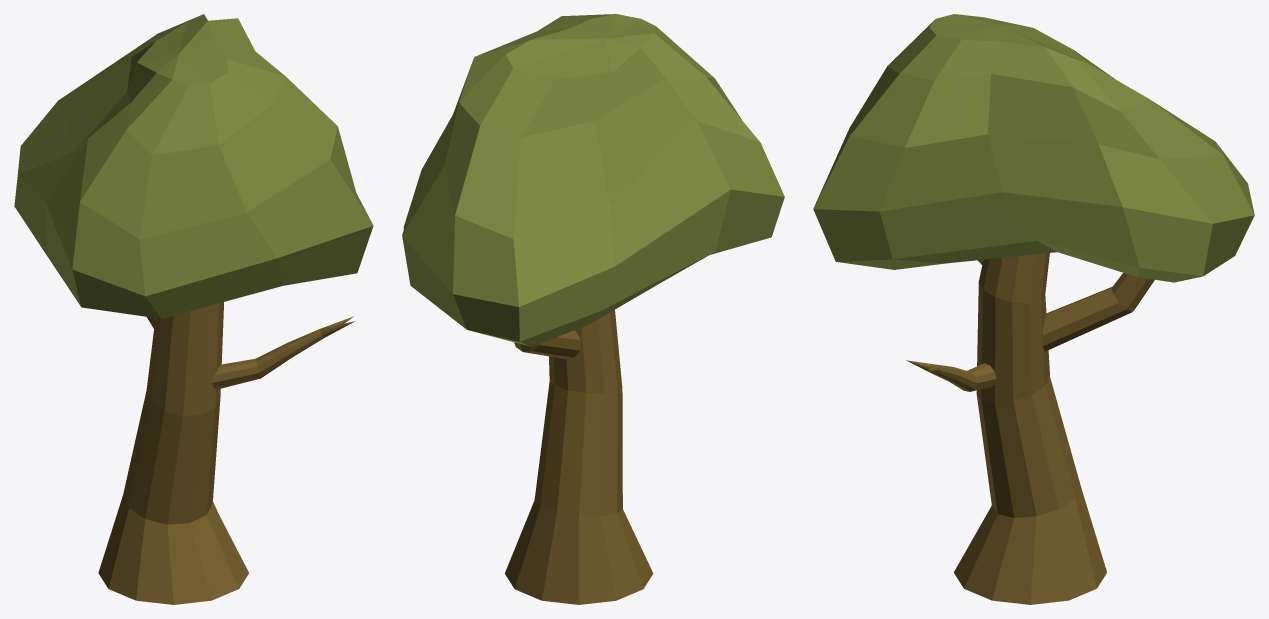
The model's file is Tree2.fbx.
3 renders of one model, left to right at view 1: azimuth 30°, elevation 25°; view 2: azimuth 150°, elevation 25°; view 3: azimuth 270°, elevation 25°, orthographic. The views are drawn at different scales.
Visible parts, largest first — view 1: Sphere, Cylinder; view 2: Sphere, Cylinder; view 3: Sphere, Cylinder.
Boxes of the visible parts, box(x1,y1,x2,y2) form: Sphere: box(14, 14, 373, 318); Cylinder: box(98, 302, 354, 604); Sphere: box(402, 14, 784, 346); Cylinder: box(505, 310, 653, 604); Sphere: box(813, 14, 1254, 282); Cylinder: box(906, 253, 1154, 604).
Size of the model in its own units: 732 by 1315 by 964.
